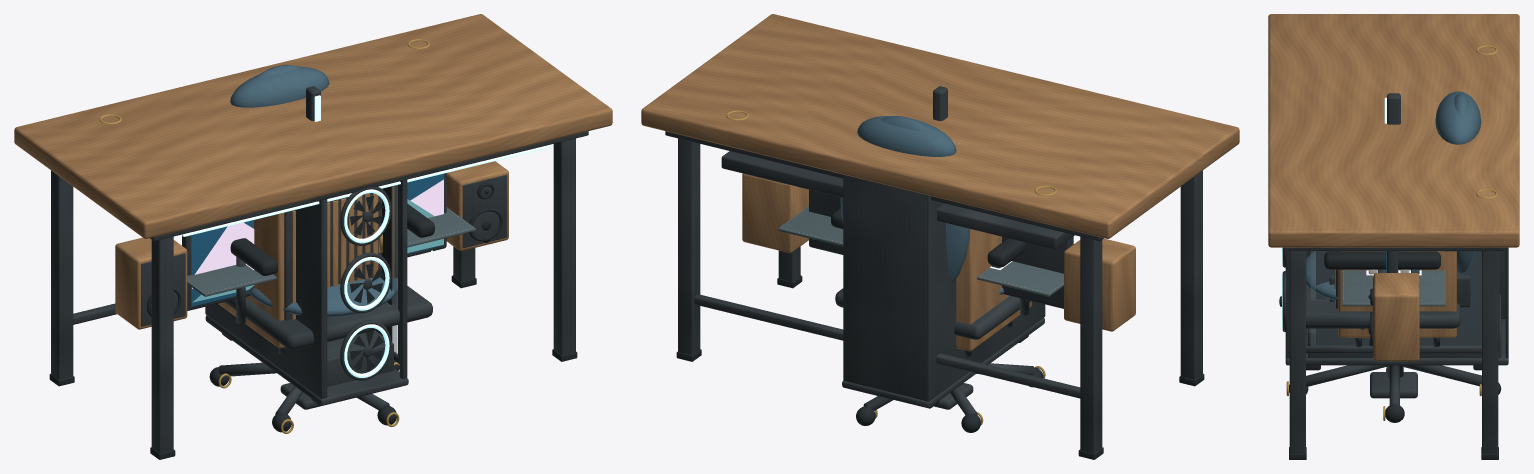
The model's file is tidy-gaming.glb.
3 views of the same model, side by side, from view 1: azimuth 30°, elevation 25°; view 2: azimuth 150°, elevation 25°; view 3: azimuth 270°, elevation 25° (orthographic). The views are drawn at different scales.
Parts seen in each view (by area): view 1: gamingdesk_mesh, gamingpc_mesh, gamingchair_mesh, gamingspeakers_mesh, gamingstorage_mesh, gamingmonitor_mesh, gamingmat_mesh, gaminglight_mesh; view 2: gamingdesk_mesh, gamingpc_mesh, gamingchair_mesh, gamingspeakers_mesh, gamingstorage_mesh, gamingmat_mesh, gamingmonitor_mesh, gaminglight_mesh; view 3: gamingdesk_mesh, gamingchair_mesh, gamingpc_mesh, gamingspeakers_mesh, gamingstorage_mesh, gamingmat_mesh, gaminglight_mesh.
Part boxes in pixels (x1,y1,x2,y2): gamingdesk_mesh: (14, 14, 612, 459); gamingpc_mesh: (205, 179, 408, 405); gamingchair_mesh: (209, 65, 434, 433); gamingspeakers_mesh: (115, 161, 508, 329); gamingstorage_mesh: (218, 185, 397, 354); gamingmonitor_mesh: (182, 173, 446, 310); gamingmat_mesh: (187, 207, 475, 296); gaminglight_mesh: (280, 86, 320, 409); gamingdesk_mesh: (641, 14, 1239, 459); gamingpc_mesh: (842, 174, 1045, 408); gamingchair_mesh: (831, 116, 1045, 432); gamingspeakers_mesh: (742, 173, 1135, 331); gamingstorage_mesh: (956, 229, 1031, 356); gamingmat_mesh: (778, 206, 1063, 296); gamingmonitor_mesh: (809, 189, 1073, 308); gaminglight_mesh: (933, 86, 973, 409); gamingdesk_mesh: (1268, 14, 1519, 459); gamingchair_mesh: (1286, 91, 1501, 422); gamingpc_mesh: (1279, 247, 1508, 370); gamingspeakers_mesh: (1368, 273, 1419, 361); gamingstorage_mesh: (1334, 251, 1456, 347); gamingmat_mesh: (1342, 270, 1445, 306); gaminglight_mesh: (1370, 93, 1417, 398).
Size of the model in its own units: 0.7 by 0.44 by 0.34.
Materials: 14 (14 with a texture image).
